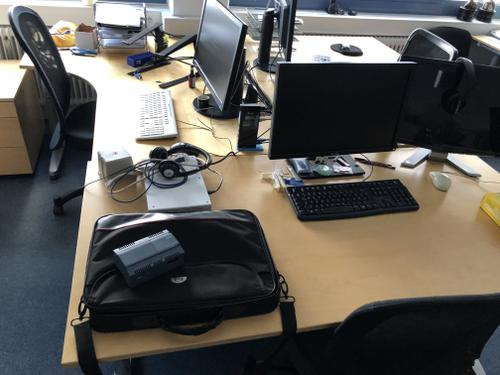device: (114, 230, 185, 289)
